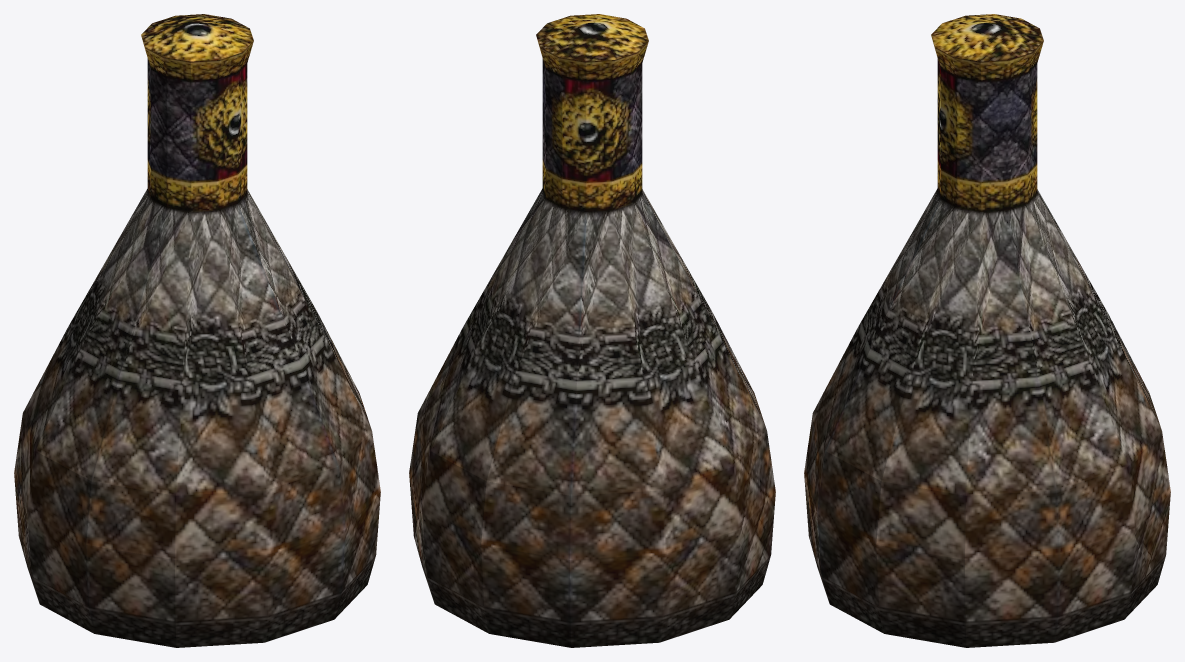
File: ITPO_PERM_STR.glb
3 views of the same model, side by side, from view 1: azimuth 30°, elevation 25°; view 2: azimuth 150°, elevation 25°; view 3: azimuth 270°, elevation 25° (orthographic).
Parts seen in each view (by area): view 1: ITPO_PERM_STR; view 2: ITPO_PERM_STR; view 3: ITPO_PERM_STR.
Boxes of the visible parts, x1,y1,x2,y2 form: ITPO_PERM_STR: (14,14,380,647); ITPO_PERM_STR: (409,14,775,647); ITPO_PERM_STR: (804,14,1170,647).
Bounding box in the file's own units: 0.207 × 0.3426 × 0.207.
1 material, 1 textured.
